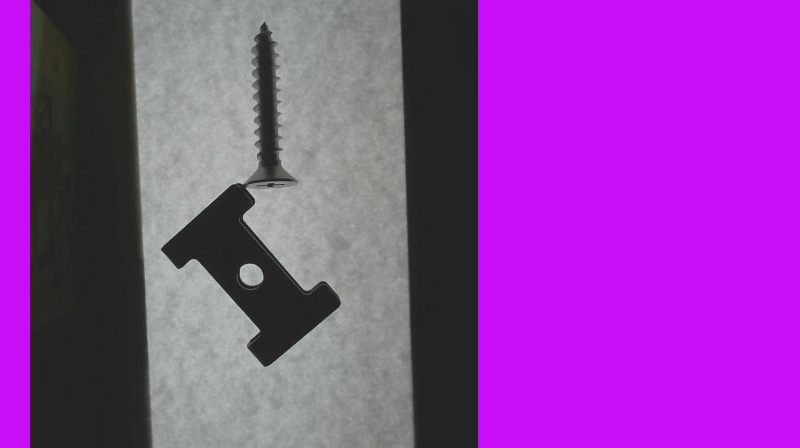O002: (158, 182, 343, 369)
S001: (240, 16, 299, 191)
